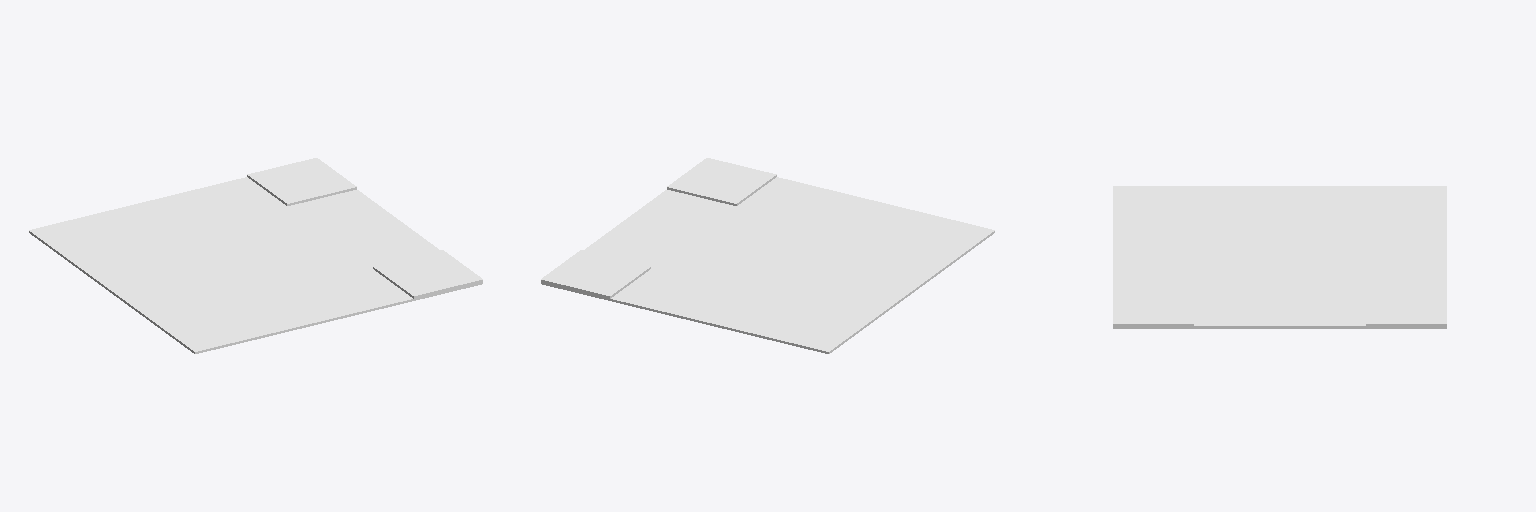
The model's file is GDS2_Floor2-3.obj.
The picture shows the model from 3 angles: view 1: azimuth 30°, elevation 25°; view 2: azimuth 150°, elevation 25°; view 3: azimuth 270°, elevation 25°; orthographic projection.
Parts seen in each view (by area): view 1: GDS2_Floor2-3; view 2: GDS2_Floor2-3; view 3: GDS2_Floor2-3.
Boxes of the visible parts, x1,y1,x2,y2 form: GDS2_Floor2-3: [29, 158, 482, 353]; GDS2_Floor2-3: [541, 158, 994, 353]; GDS2_Floor2-3: [1113, 186, 1446, 328].
Size of the model in its own units: 12.8 by 0.2 by 12.8.